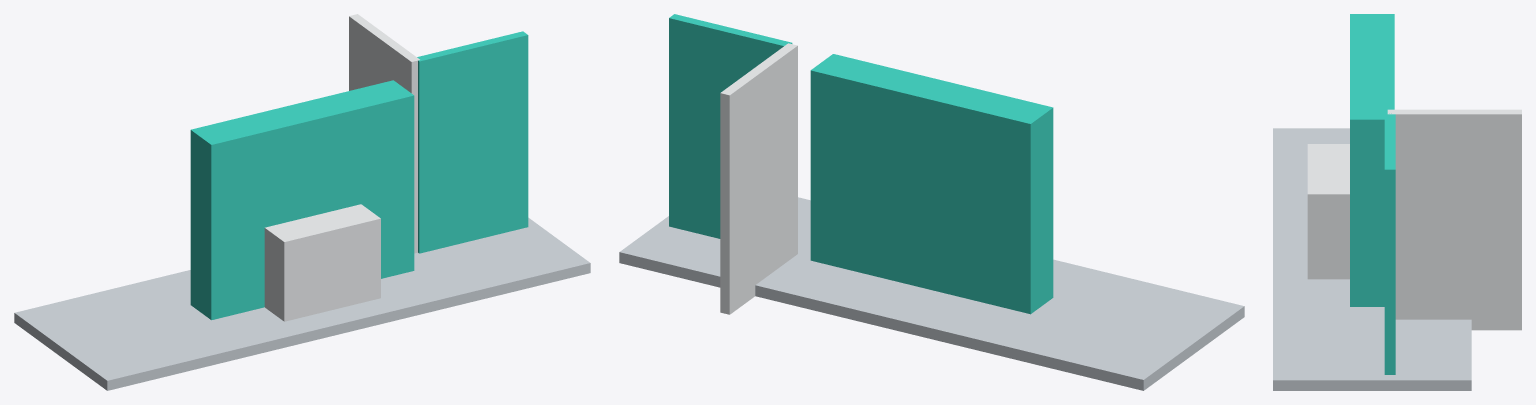
The picture shows the model from 3 angles, left to right: view 1: azimuth 30°, elevation 25°; view 2: azimuth 150°, elevation 25°; view 3: azimuth 270°, elevation 25°; orthographic projection. The views are drawn at different scales.
Visible parts, largest first — view 1: Exhibition Booth Concept; view 2: Exhibition Booth Concept; view 3: Exhibition Booth Concept.
Part boxes in pixels (bbox=[...]): Exhibition Booth Concept: bbox=[14, 14, 590, 390]; Exhibition Booth Concept: bbox=[619, 14, 1244, 390]; Exhibition Booth Concept: bbox=[1273, 14, 1521, 390].
Size of the model in its own units: 6 by 2.4 by 2.5.
